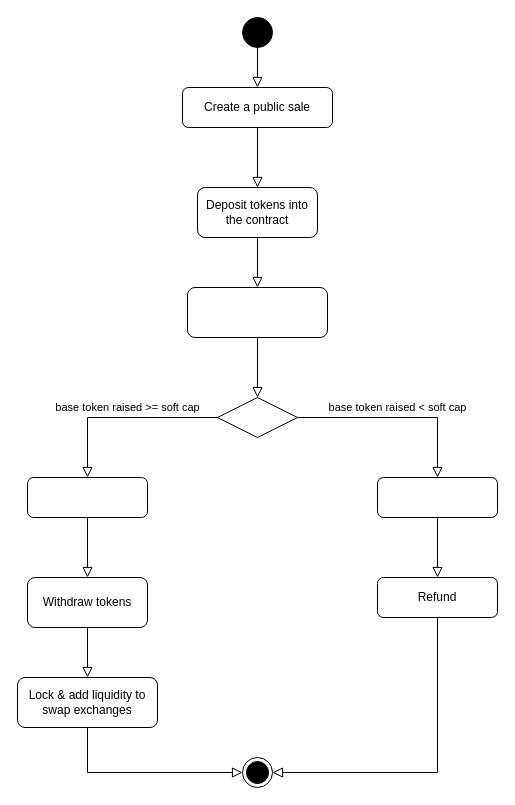
The diagram is 515 pixels wide and 805 high, and some of its shapes have lost their labels. The centre of each missing label's shape, as x and y in pixels:
Set failure: the point at 437,497
Set success: the point at 87,497
The public purchases tokens: the point at 257,312
